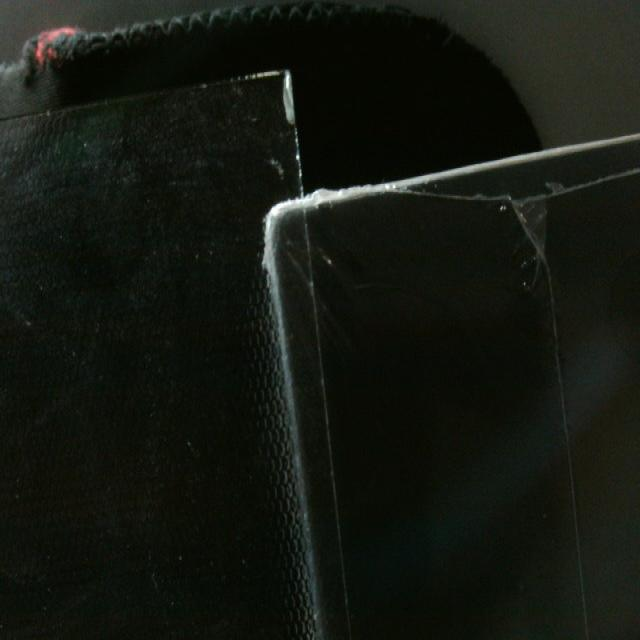edge_chip: (281, 65, 301, 138)
